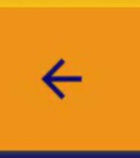ImgButton: (1, 1, 139, 157)
